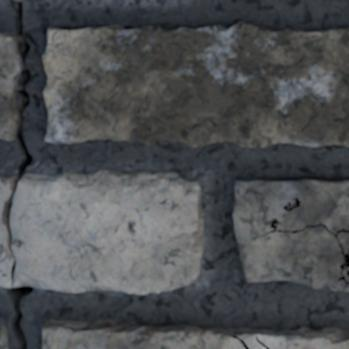brick: (43, 22, 348, 147), (233, 176, 348, 290), (42, 320, 348, 348), (0, 32, 20, 139), (0, 325, 7, 348)
broken_brick: (11, 169, 204, 295), (0, 226, 11, 288), (0, 174, 15, 219), (18, 0, 45, 2)
crack: (0, 0, 34, 348), (231, 334, 249, 348), (255, 332, 269, 348)
